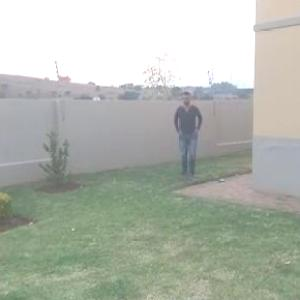follow: (173, 89, 205, 183)
